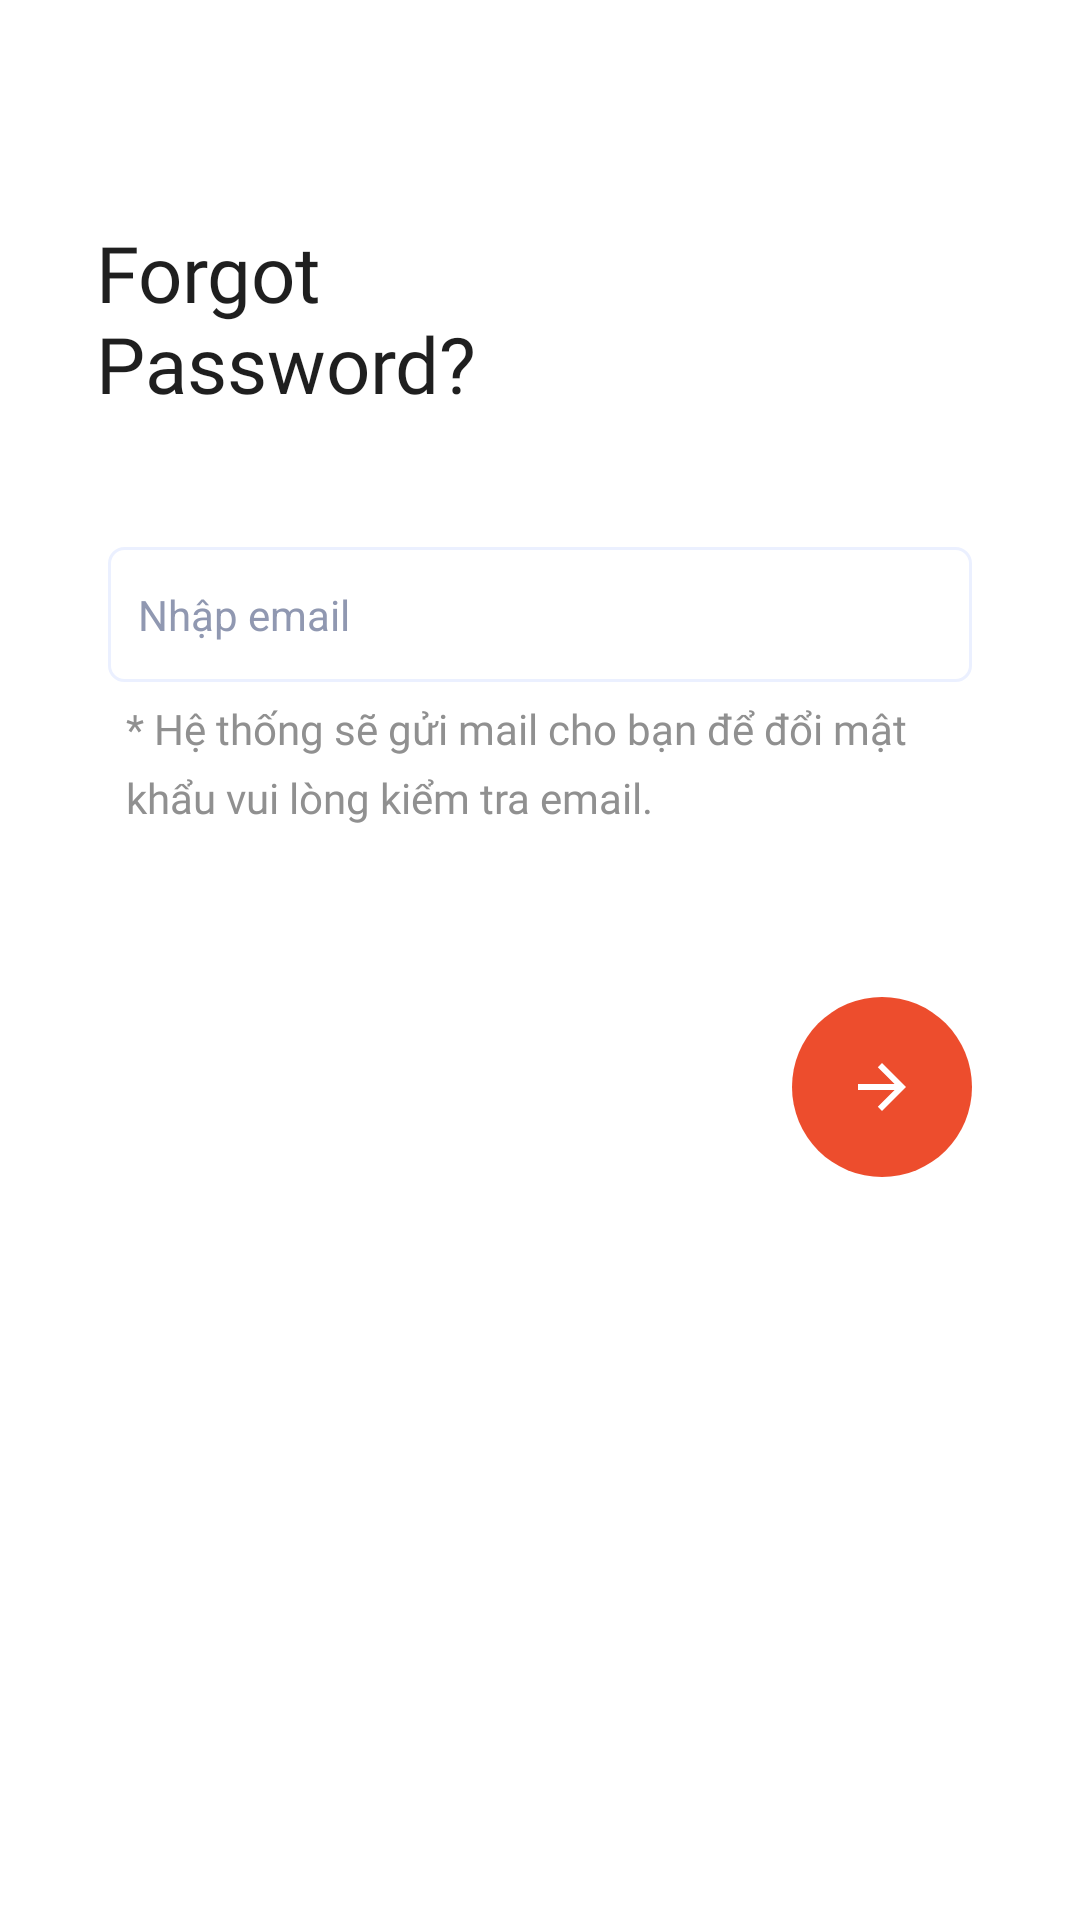

Screen size 1080 × 1920. Icon name, then its center in pixels as [x,y]:
next: [882,1087]
